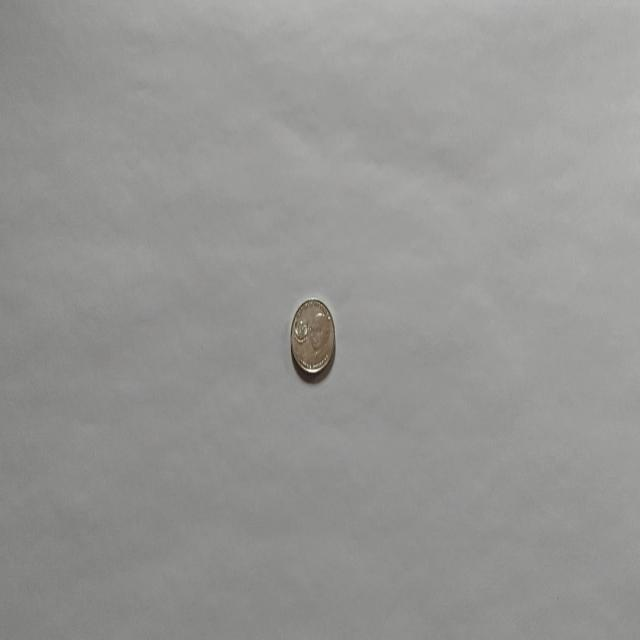lima ratus rupiah: (290, 297, 336, 377)
